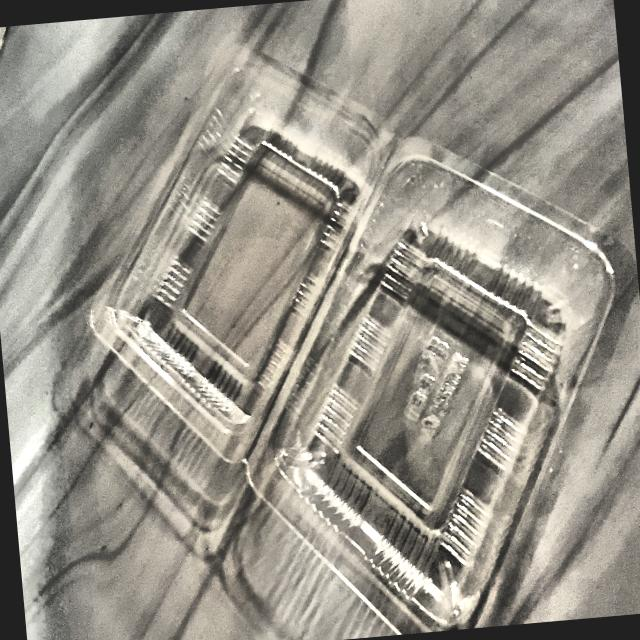plastic container: (126, 63, 573, 636)
